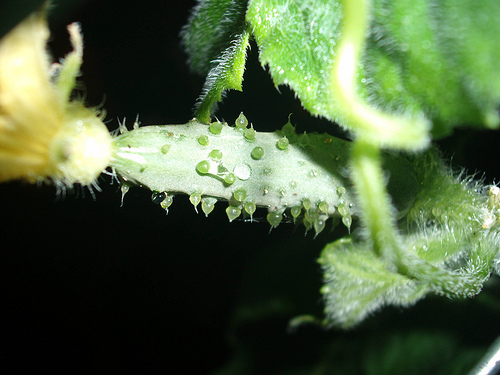cucumber: (110, 110, 422, 235)
